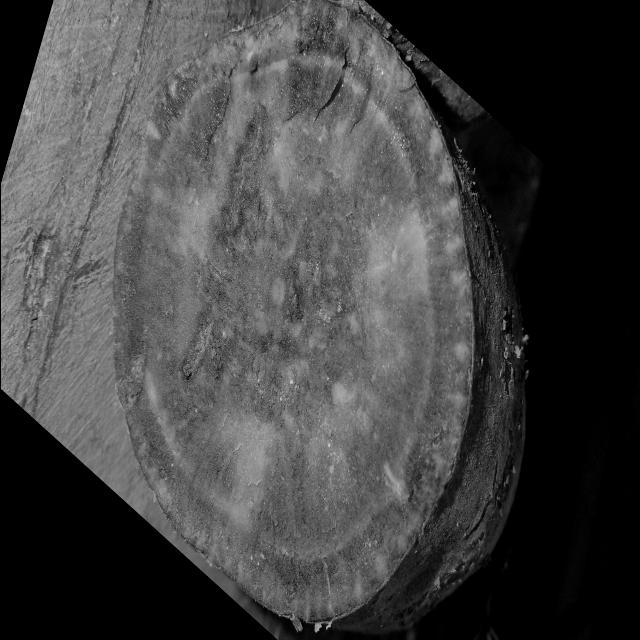Sick Sweet Potato_Tuber Rot: (114, 2, 471, 622)
